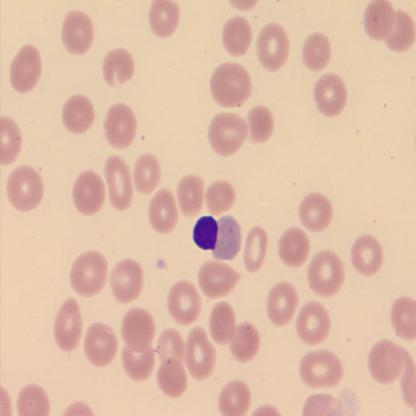NRC: (192, 213, 221, 252)
